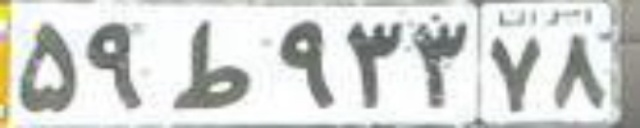3: (412, 21, 465, 107), (347, 23, 400, 107)
5: (20, 23, 78, 113)
7: (491, 37, 542, 110)
8: (553, 36, 602, 109)
9: (278, 20, 334, 107), (86, 22, 138, 109)
taa: (173, 19, 248, 109)
